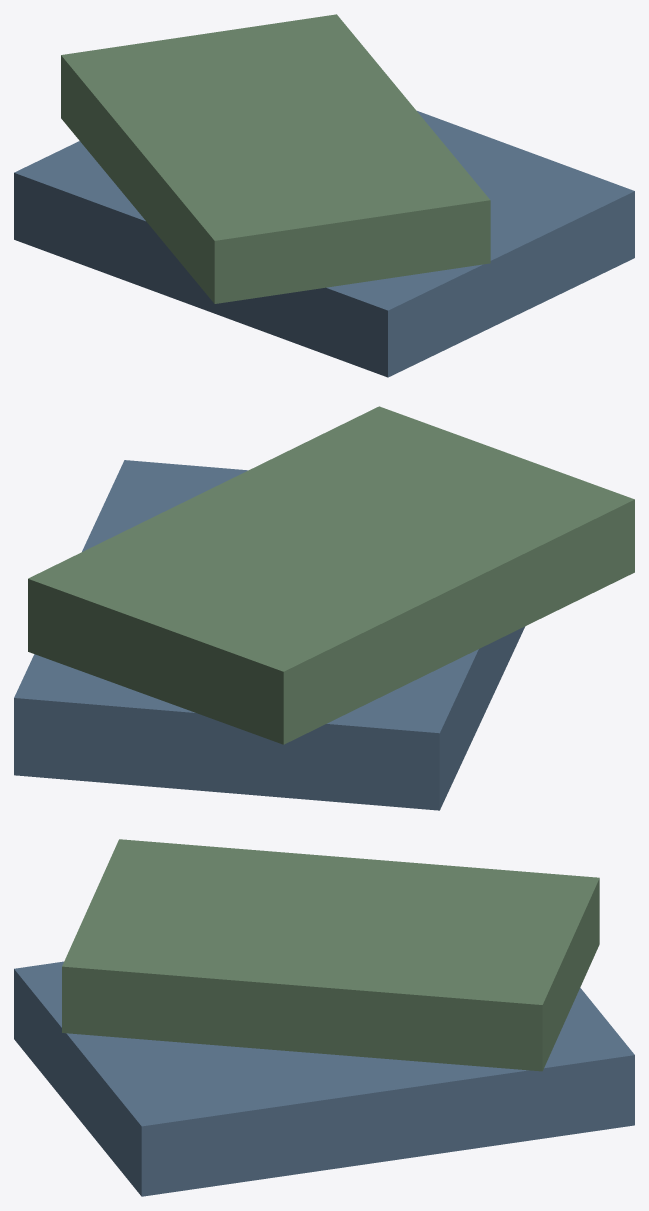
File: mov_e5ed2b0db7.gltf
The picture shows the model from 3 angles, top to bottom: view 1: azimuth 30°, elevation 25°; view 2: azimuth 150°, elevation 25°; view 3: azimuth 270°, elevation 25°; orthographic projection. The views are drawn at different scales.
Visible parts, largest first — view 1: mov_e5ed2b0db7; view 2: mov_e5ed2b0db7; view 3: mov_e5ed2b0db7.
Boxes of the visible parts, x1,y1,x2,y2 form: mov_e5ed2b0db7: [14, 14, 634, 377]; mov_e5ed2b0db7: [14, 406, 634, 810]; mov_e5ed2b0db7: [14, 839, 634, 1196].
Size of the model in its own units: 0.2932 by 0.0816 by 0.336.
